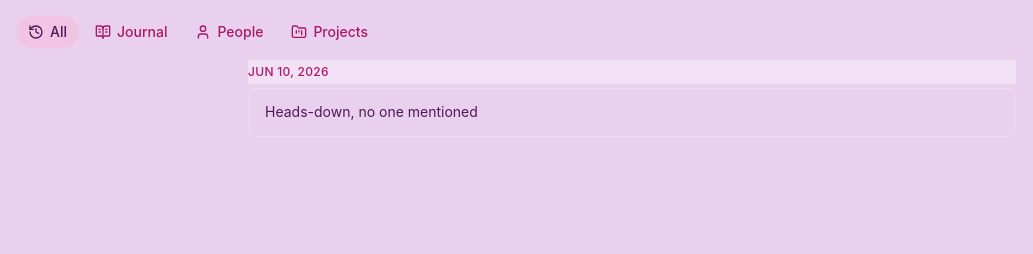
Test: TimelineView › distinguishes a filter that hid every entry from a truly empty timeline
Check: the text "Heads-down, no one mentioned" is shown, box left=265, top=103, right=478, bottom=120
Click the button "People" at (229, 32), box left=183, top=16, right=275, bottom=48
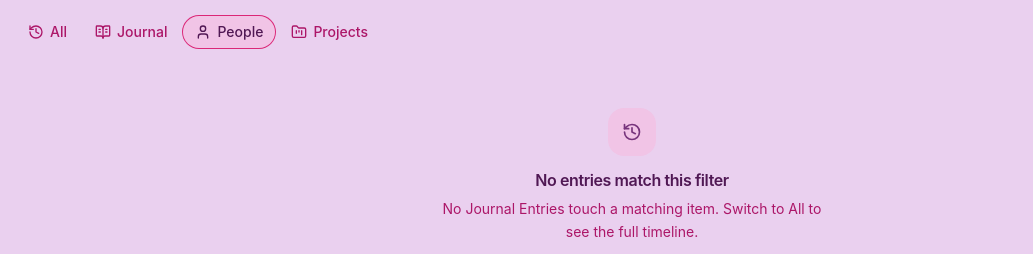
Check: the heading "No entries match this filter" is shown, box left=535, top=170, right=729, bottom=190
